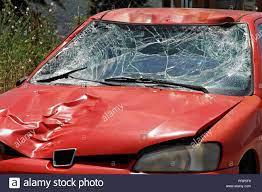Front-Windscreen-Damage: (37, 16, 259, 90)
bonnet-dent: (0, 87, 204, 157)
